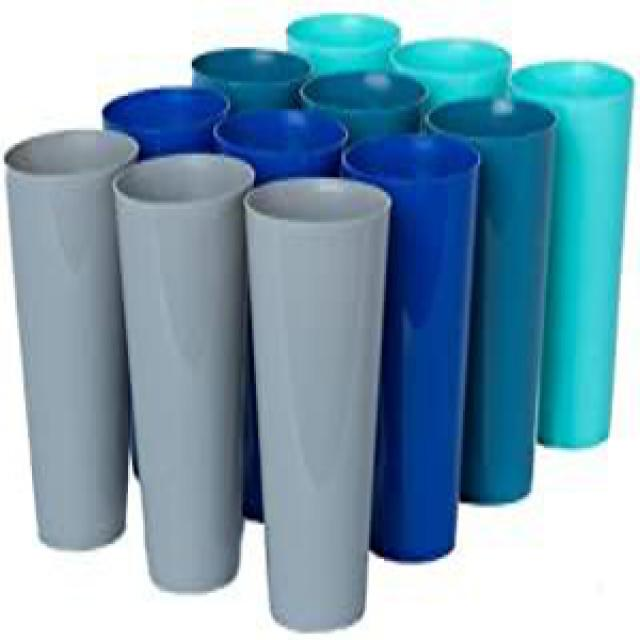plastic cup: (236, 177, 394, 638), (96, 8, 512, 173), (107, 150, 256, 596), (339, 132, 482, 572), (2, 126, 143, 555), (416, 96, 555, 506), (506, 56, 636, 454)
